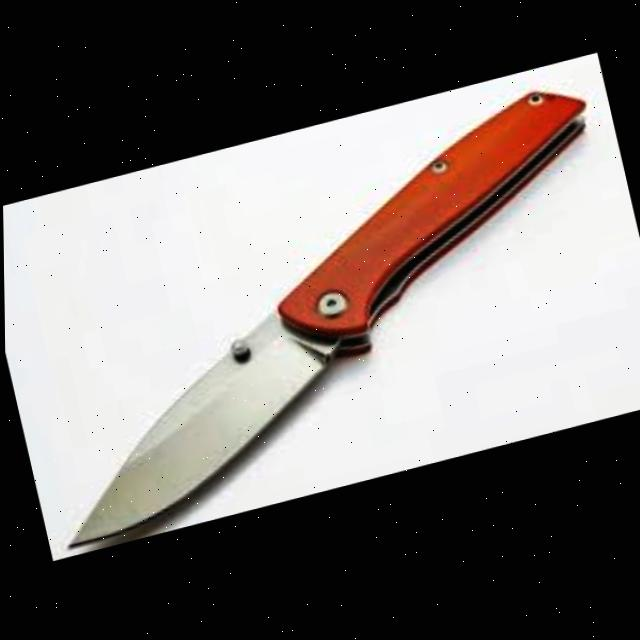knife: (1, 78, 640, 551)
